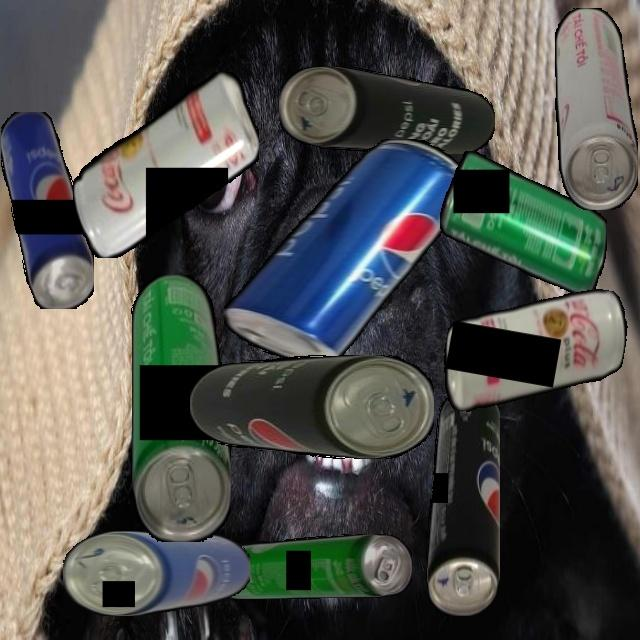debris: (223, 139, 469, 363), (72, 71, 259, 258), (435, 265, 634, 436), (130, 274, 231, 542), (189, 355, 434, 459), (439, 150, 607, 293), (279, 65, 495, 154), (0, 111, 94, 309), (554, 7, 638, 210), (425, 389, 500, 616), (63, 530, 250, 616), (211, 534, 412, 599)
